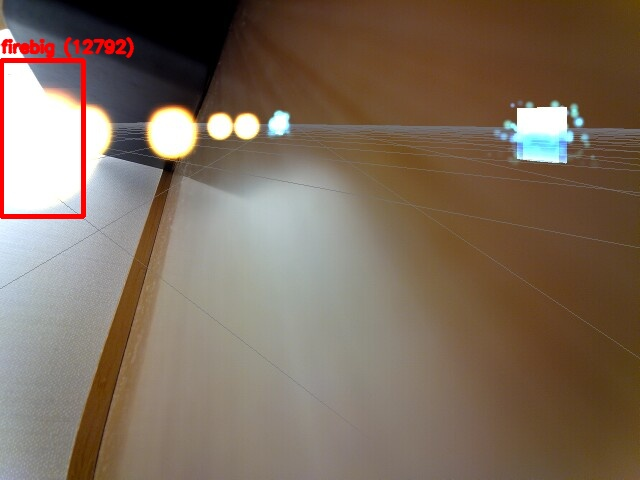firebig: (1, 60, 83, 216)
